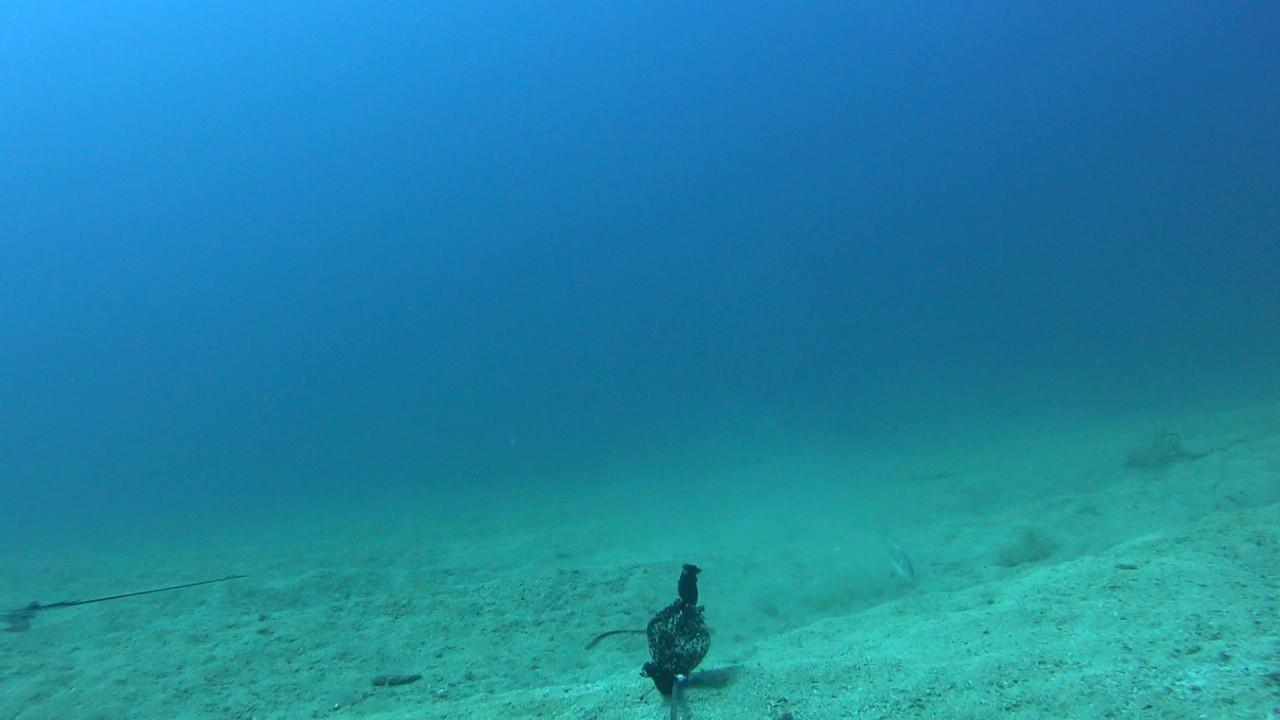myliobatis: (5, 568, 272, 641)
